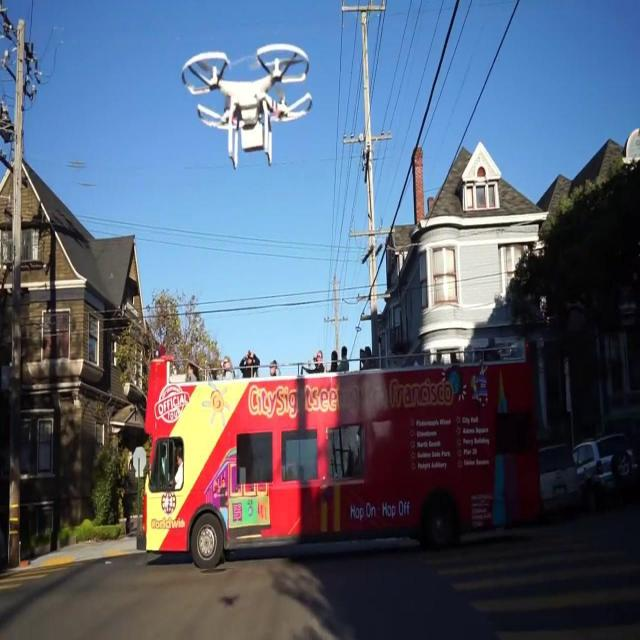UAV: (182, 42, 312, 170)
